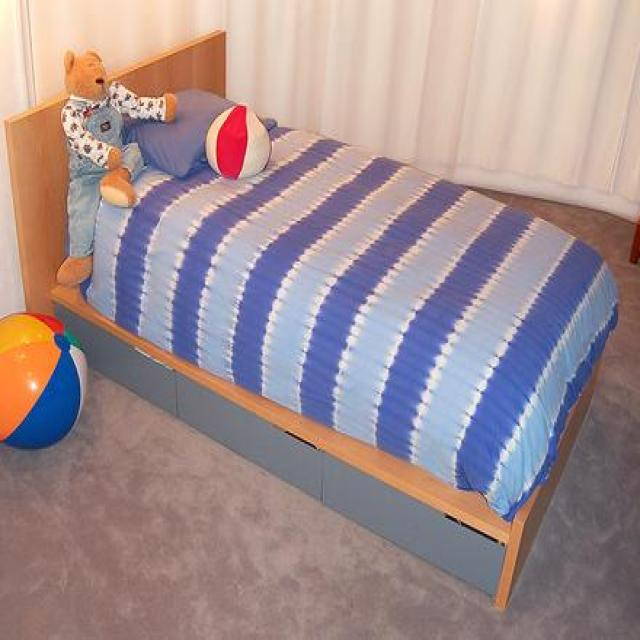bed: (4, 29, 617, 614)
